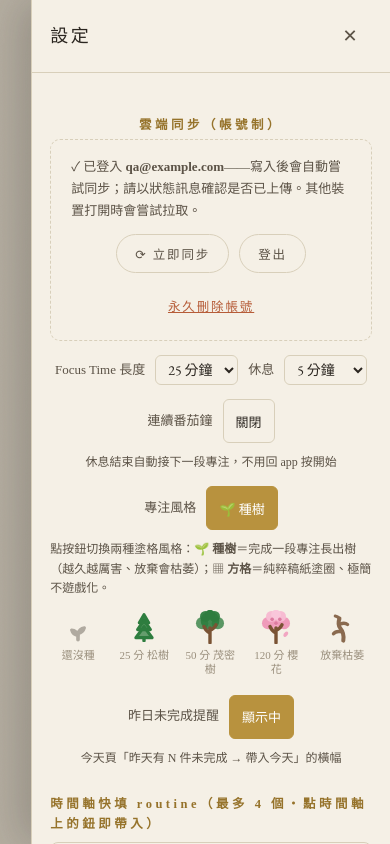
Test: actual Settings backup, owner and sync safety controls › Auth logout failure preserves records and backups instead of wiping the device
What coordinates should you click on to do the following:
click the button "登出"
I would click on:
 (272, 254)
Its box is left=239, top=234, right=306, bottom=273.
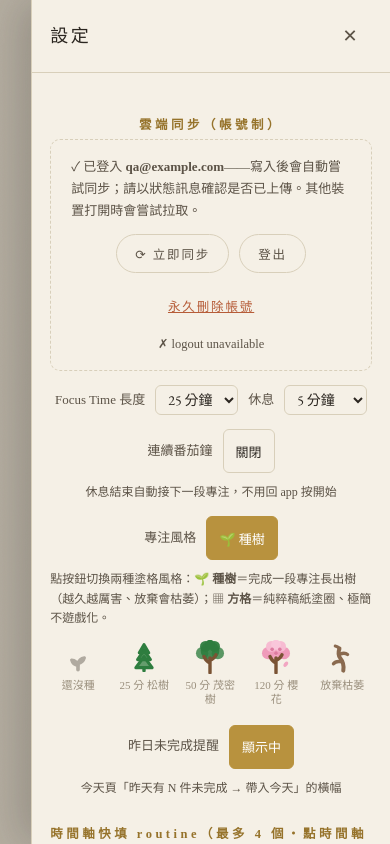
Result: the text "logout unavailable" is shown at left=158, top=337, right=264, bottom=351
